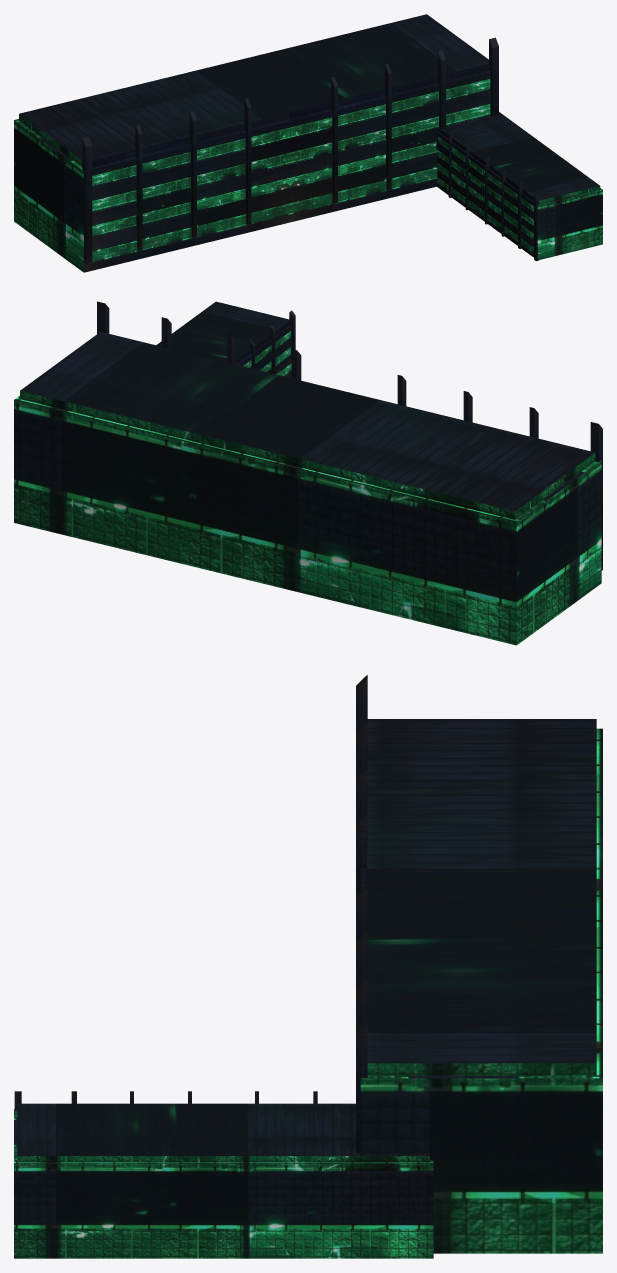
File: fabrica.fbx
The picture shows the model from 3 angles, top to bottom: view 1: azimuth 30°, elevation 25°; view 2: azimuth 150°, elevation 25°; view 3: azimuth 270°, elevation 25°; orthographic projection. The views are drawn at different scales.
Parts seen in each view (by area): view 1: Cube.001; view 2: Cube.001; view 3: Cube.001.
Part boxes in pixels (x1,y1,x2,y2): Cube.001: (14,14,602,272); Cube.001: (14,301,602,645); Cube.001: (14,675,602,1258).
Bounding box in the file's own units: 16316 × 4987 × 11486.
